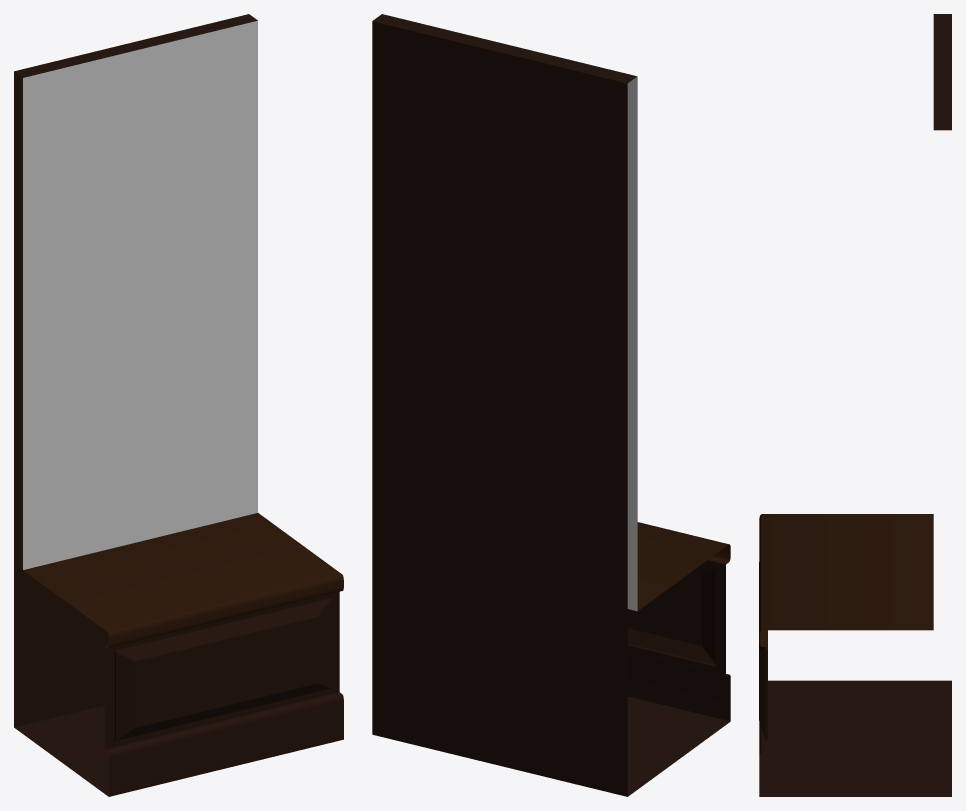
Rendered from Sm_single_muro_relieve.fbx.
3 renders of one model, left to right at view 1: azimuth 30°, elevation 25°; view 2: azimuth 150°, elevation 25°; view 3: azimuth 270°, elevation 25°, orthographic. The views are drawn at different scales.
Visible parts, largest first — view 1: Object001, Modulo 3x3 A.005; view 2: Modulo 3x3 A.005, Object001; view 3: Modulo 3x3 A.005.
Part boxes in pixels (bbox=[...]): Object001: bbox=[23, 20, 257, 569]; Modulo 3x3 A.005: bbox=[14, 14, 343, 796]; Modulo 3x3 A.005: bbox=[372, 14, 730, 796]; Object001: bbox=[627, 76, 637, 611]; Modulo 3x3 A.005: bbox=[759, 14, 951, 796].
Size of the model in its own units: 118 by 315 by 82.6.
